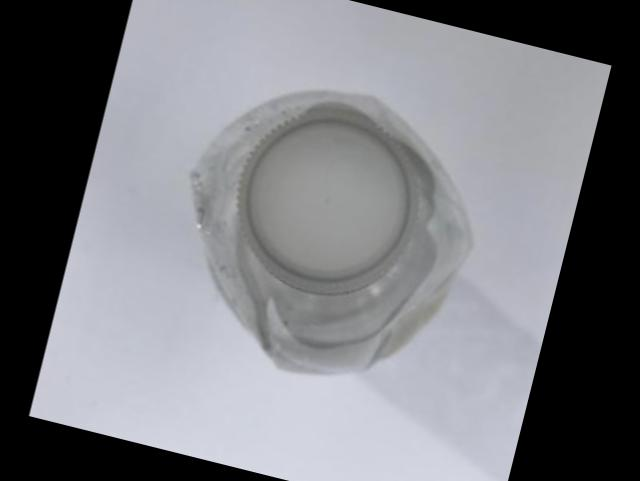plastic: (194, 92, 473, 374)
